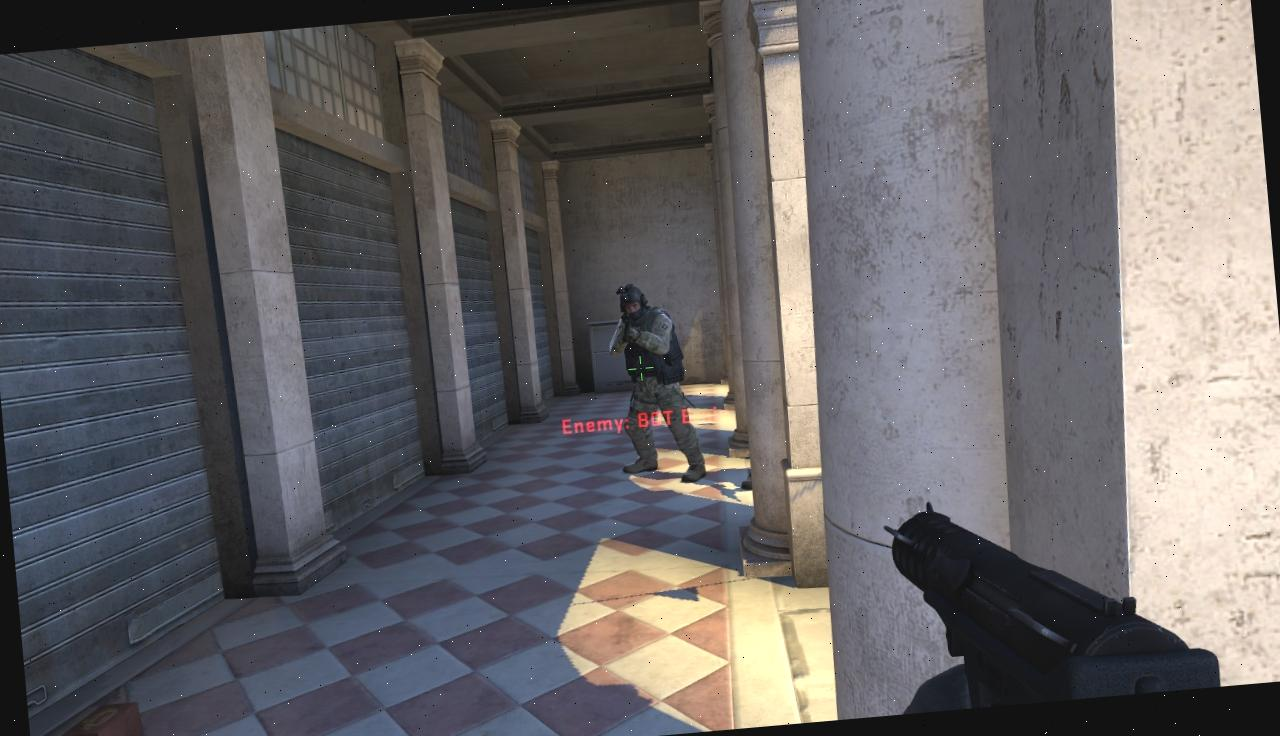ct: (606, 280, 696, 488)
cthead: (616, 284, 650, 324)
pistol: (880, 472, 1221, 714)
